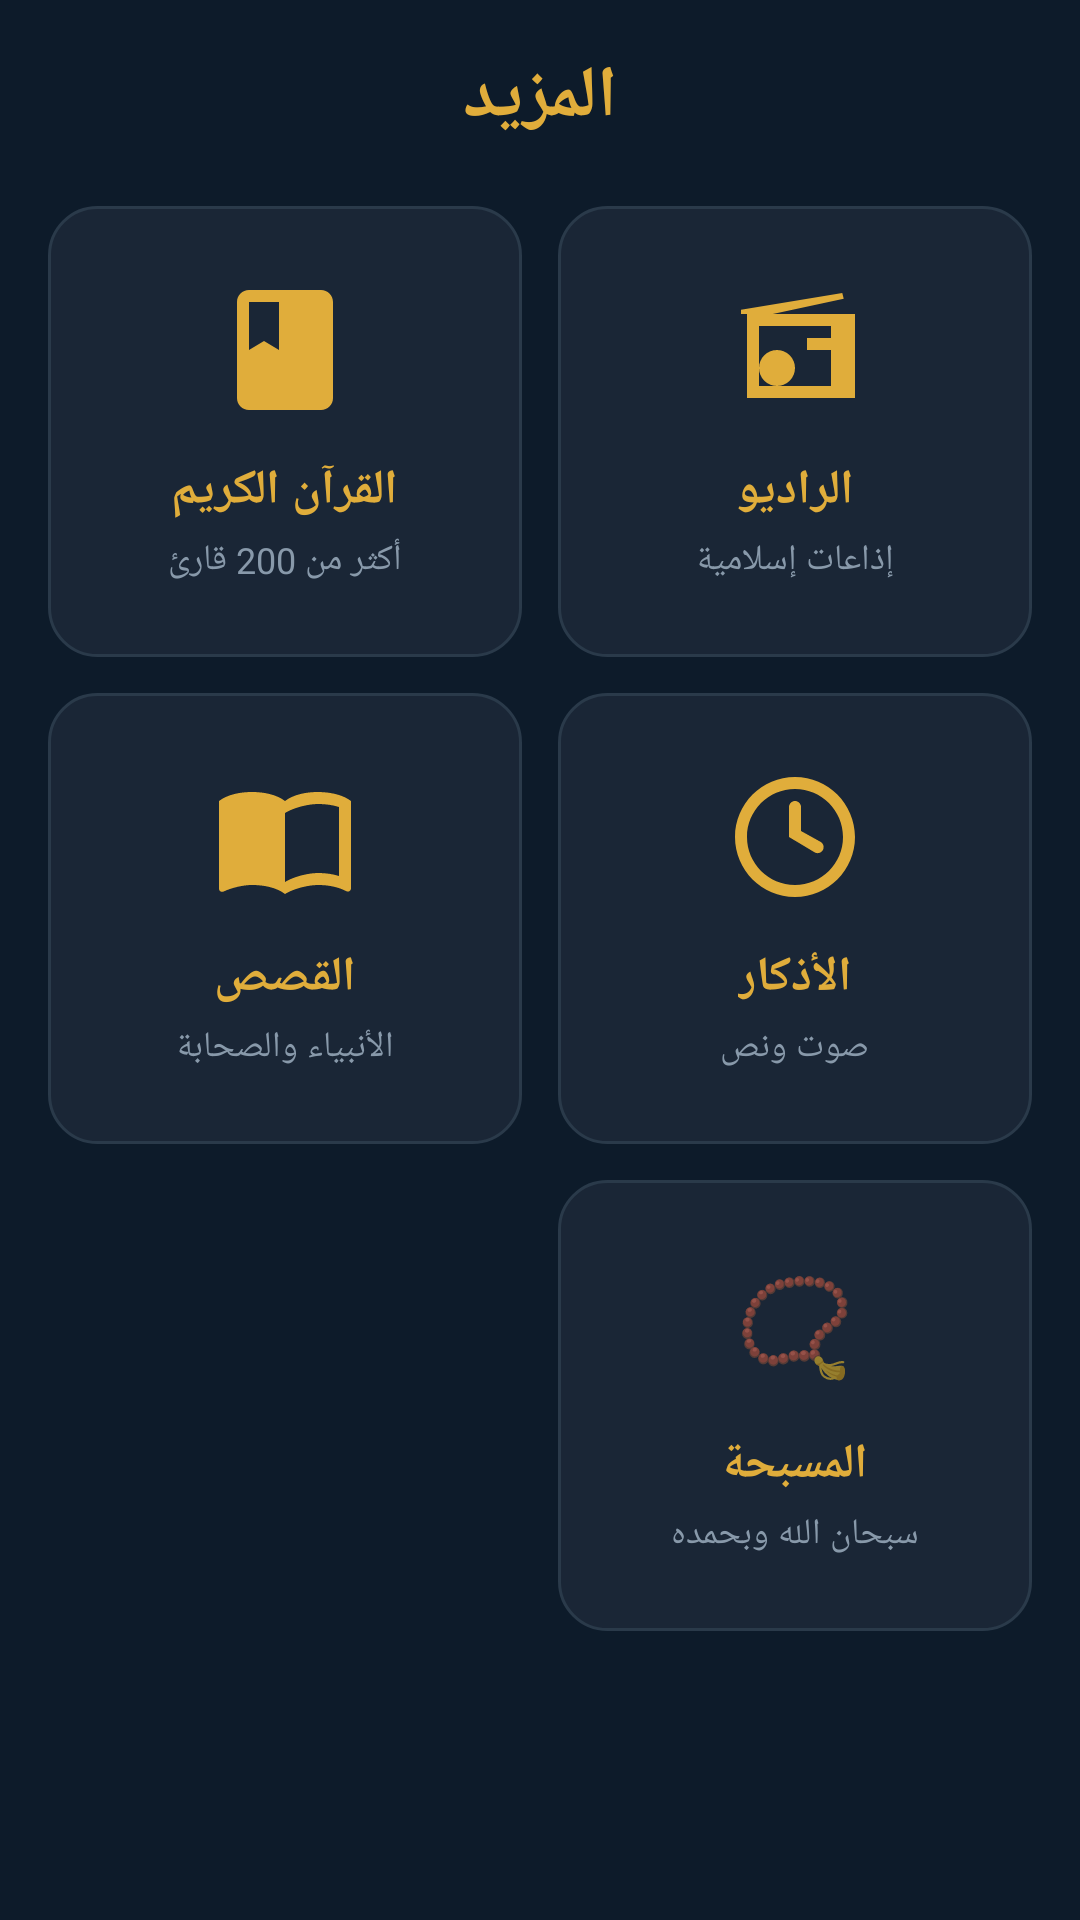

Named icons in this screenshot (1080px×1920px) and their centers, point (x, y):
radio: point (798, 345)
stories: point (285, 843)
